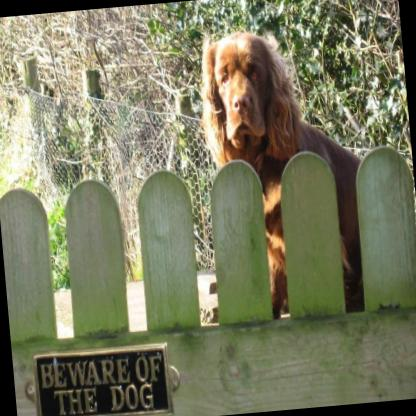Sussex_spaniel: (192, 22, 375, 324)
